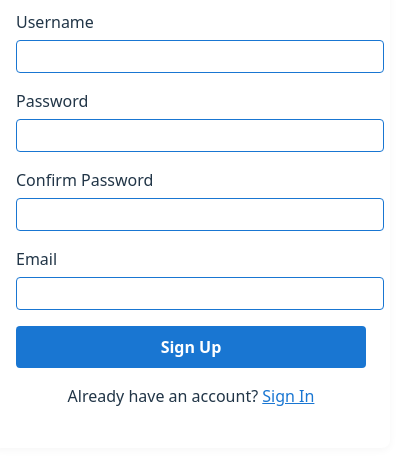
Test: SignupForm › shows error if fields are not filled up
Click the button "Sign Up" at point(191, 347), box 16,326 -> 366,368
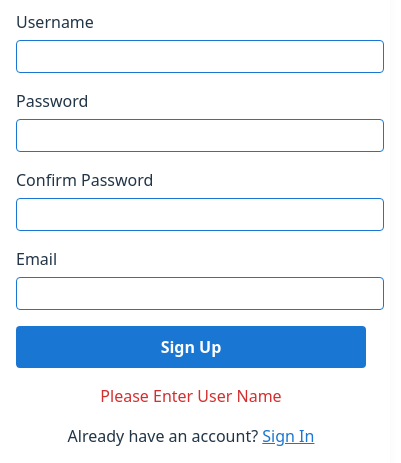
Expected: the text "Please Enter User Name" is shown, 100,385 -> 282,407
